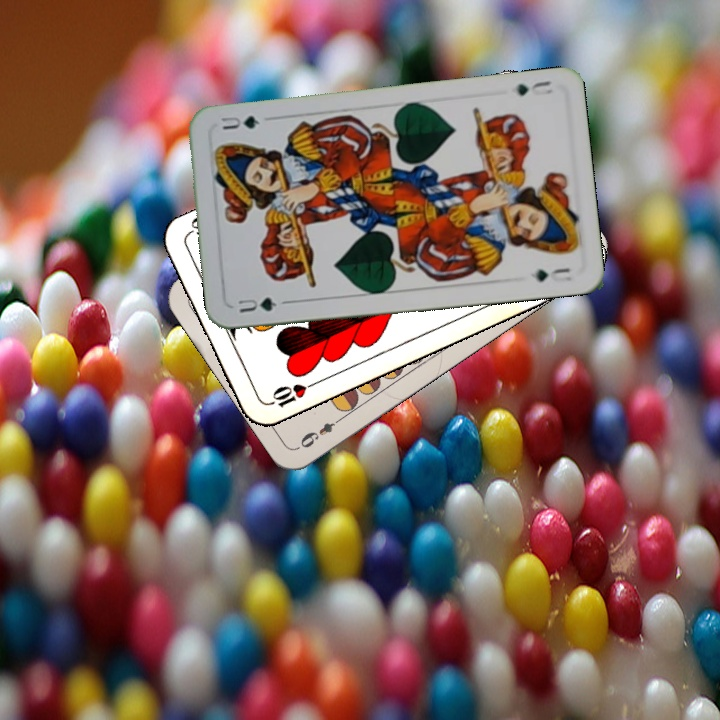E9: (294, 412, 346, 452)
GU: (234, 293, 289, 316), (511, 76, 556, 99)
H10: (263, 377, 319, 410)
